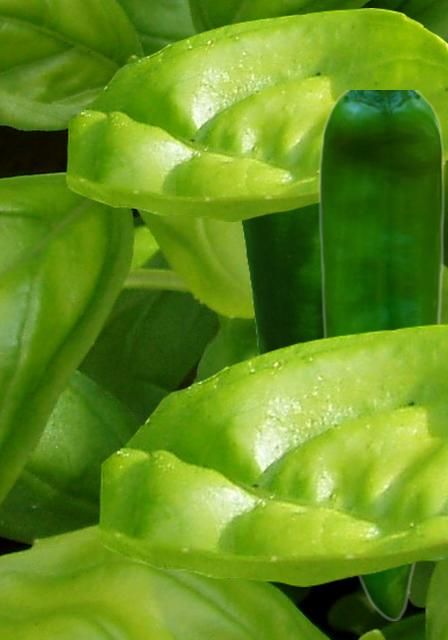green_chili: (317, 90, 444, 619), (238, 204, 321, 354)
